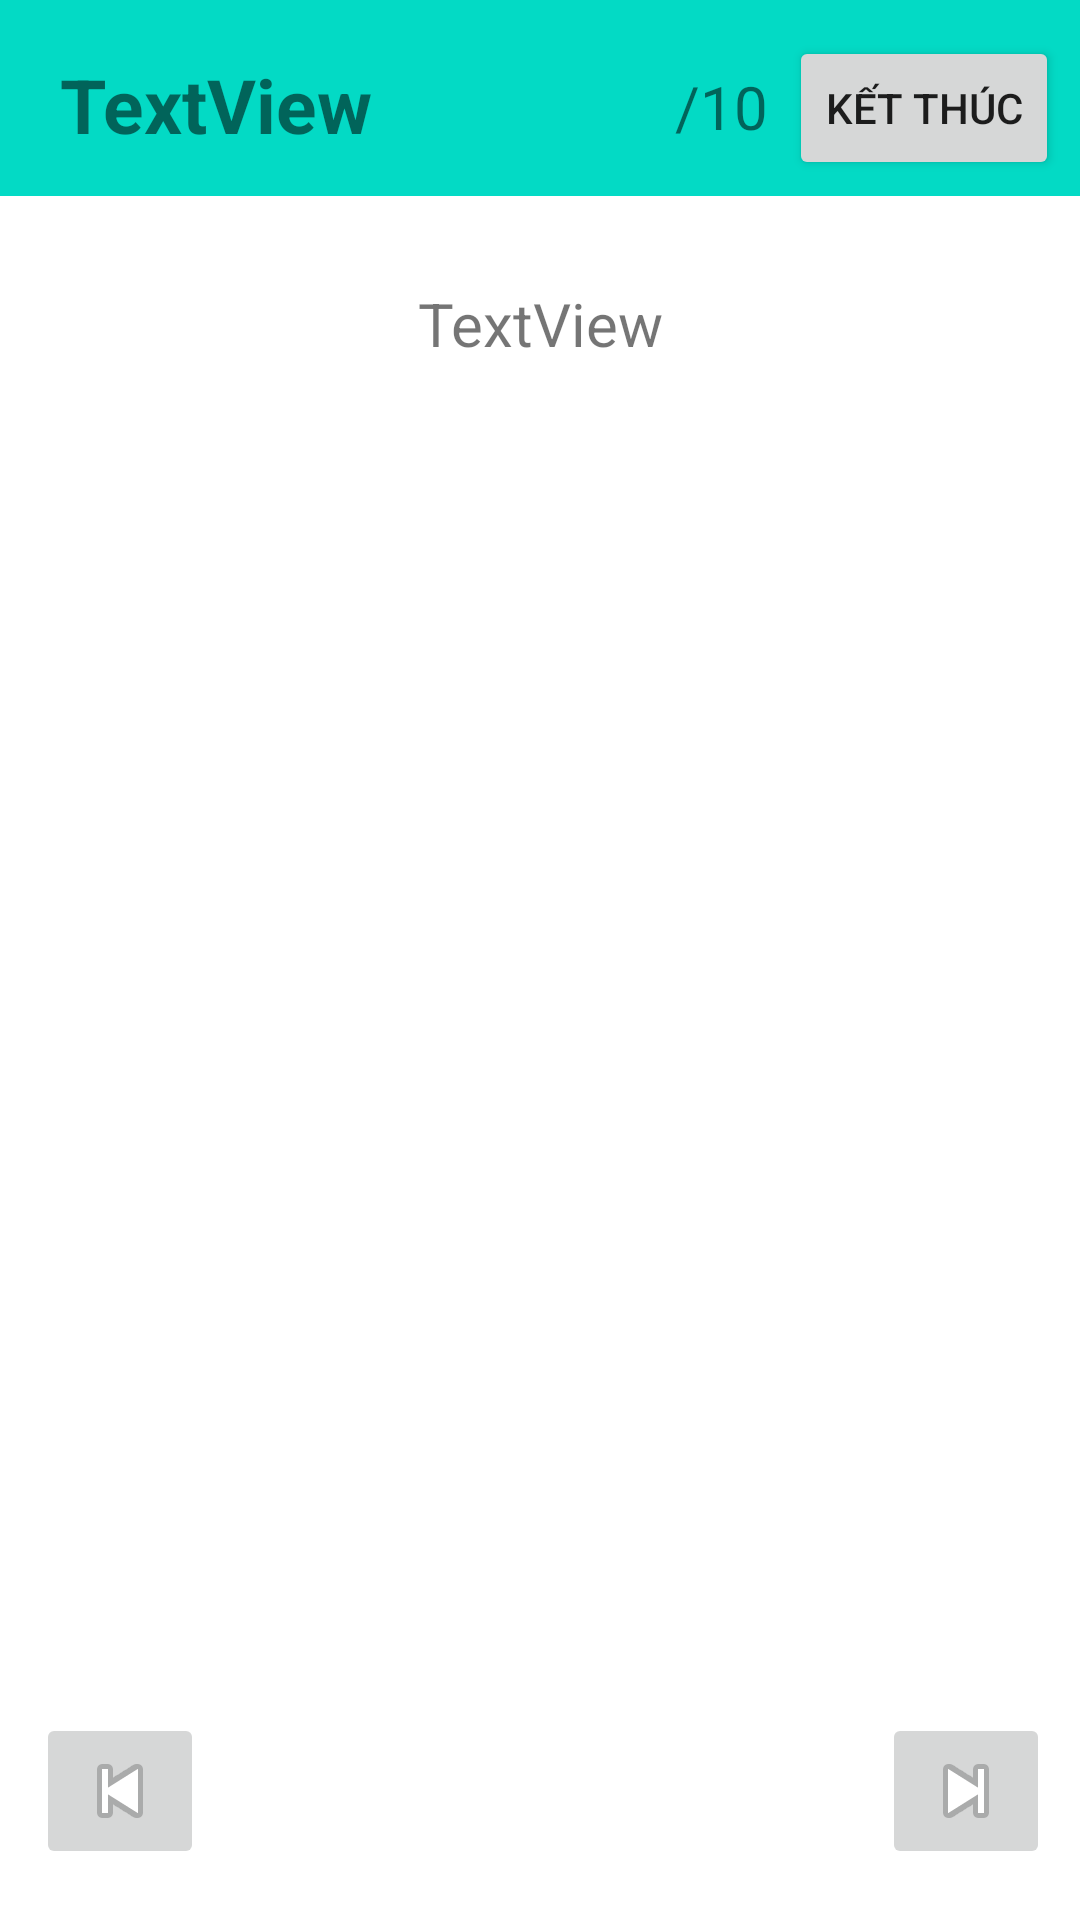

Screen size 1080×1920. Icon name, then its box in pixels as (x1, y1, x2, y2):
next: (894, 1731, 1038, 1851)
previous: (48, 1731, 192, 1851)
